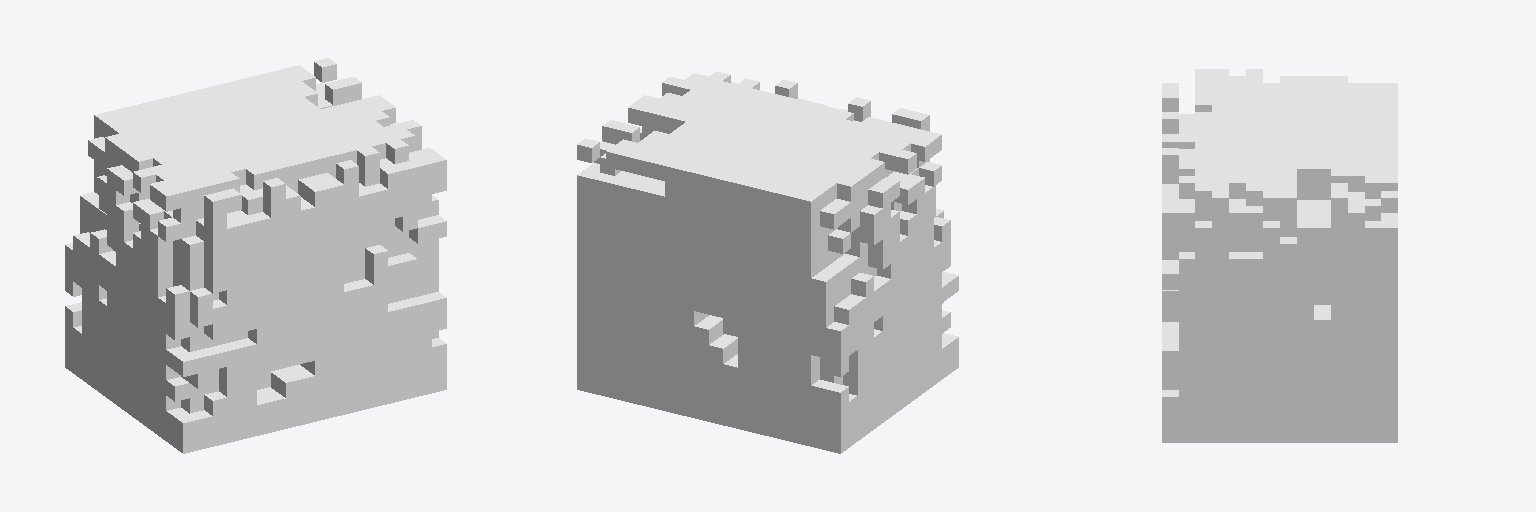
Rendered from House1-18.obj.
The picture shows the model from 3 angles: view 1: azimuth 30°, elevation 25°; view 2: azimuth 150°, elevation 25°; view 3: azimuth 270°, elevation 25°; orthographic projection.
Parts seen in each view (by area): view 1: object 1; view 2: object 1; view 3: object 1.
Part boxes in pixels (left/top/right/bottom): object 1: left=65, top=58, right=446, bottom=453; object 1: left=577, top=71, right=958, bottom=453; object 1: left=1162, top=69, right=1397, bottom=442.
Bounding box in the file's own units: 1.8 × 1.6 × 1.4.